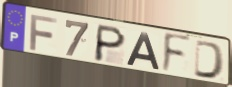7: (64, 18, 91, 58)
A: (124, 31, 161, 71)
D: (193, 39, 226, 81)
F: (161, 31, 193, 75), (28, 13, 59, 53)
P: (92, 23, 128, 64)
